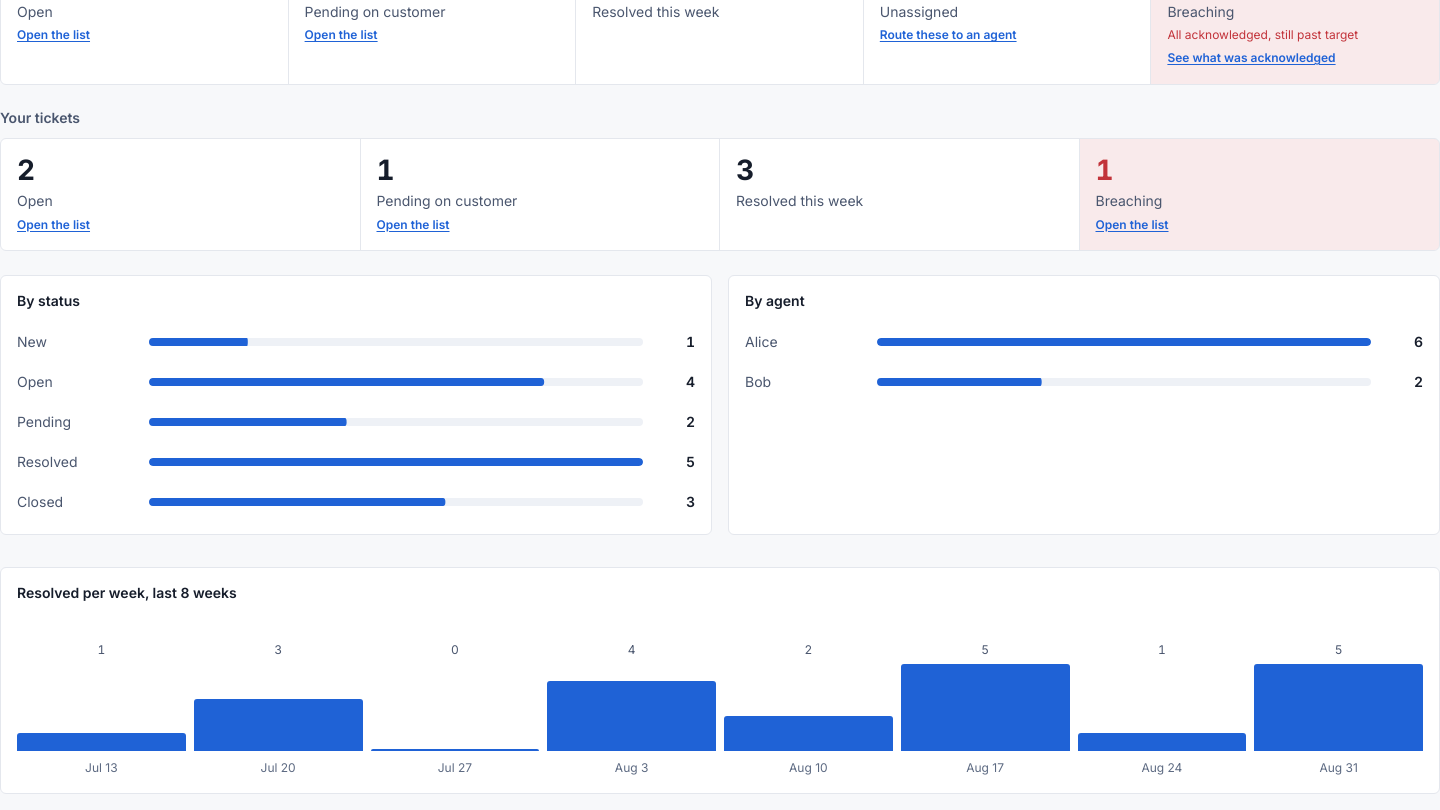
Test: DashboardPage › drills into a clicked week, then returns to the 8-week view
(page scrolled)
Check: the heading "Resolved per week, last 8 weeks" is shown, box [17,584,237,601]
Click the button titled "Show the day-by-day breakdown" at (1339, 709), box [1254,641,1423,777]
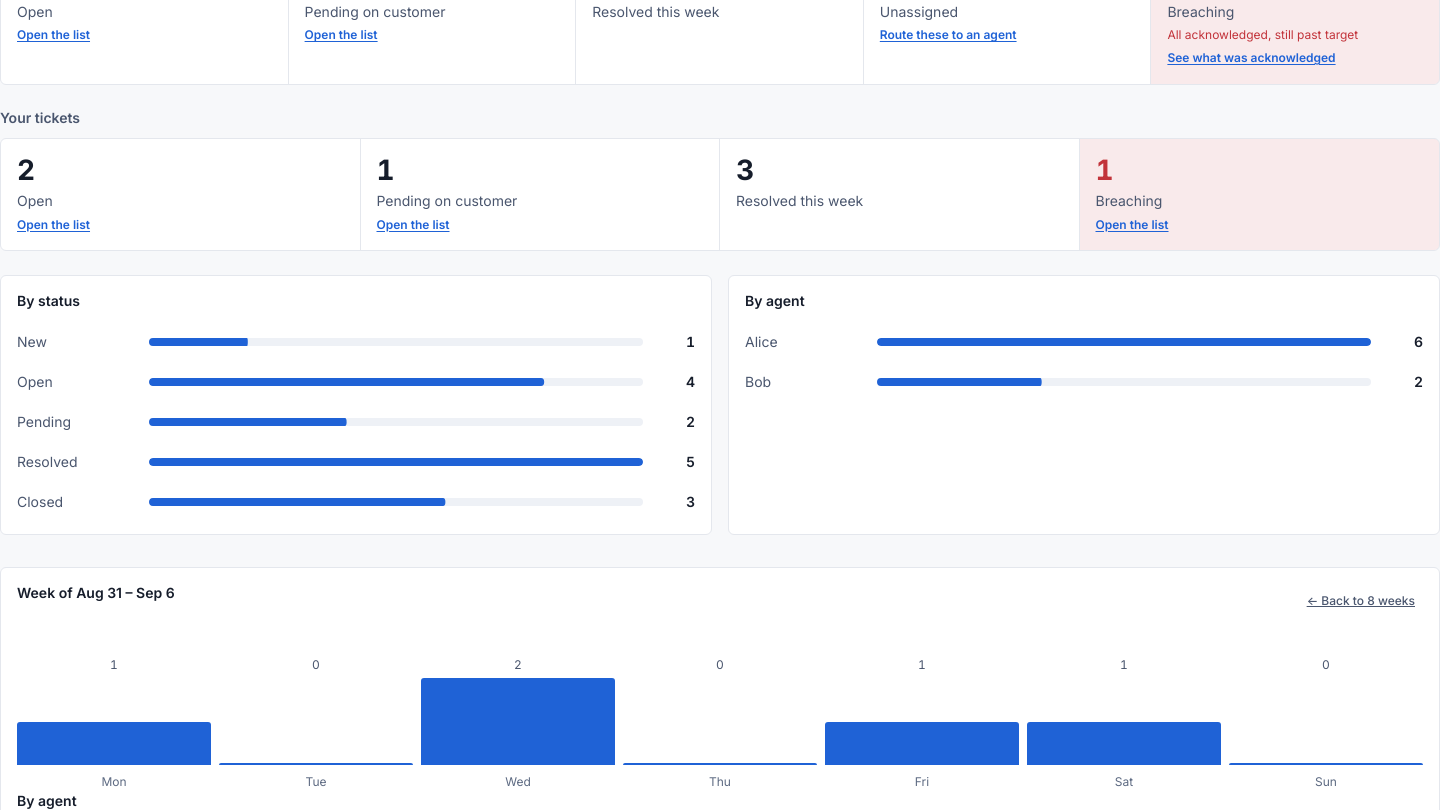
Check: the heading "By agent" below "Mon" is shown, box [17,792,77,809]
Check: the number of elements with class "week-chart-col" is 7
Click the button "← Back to 8 weeks" at (1361, 602), box [1299,584,1423,620]
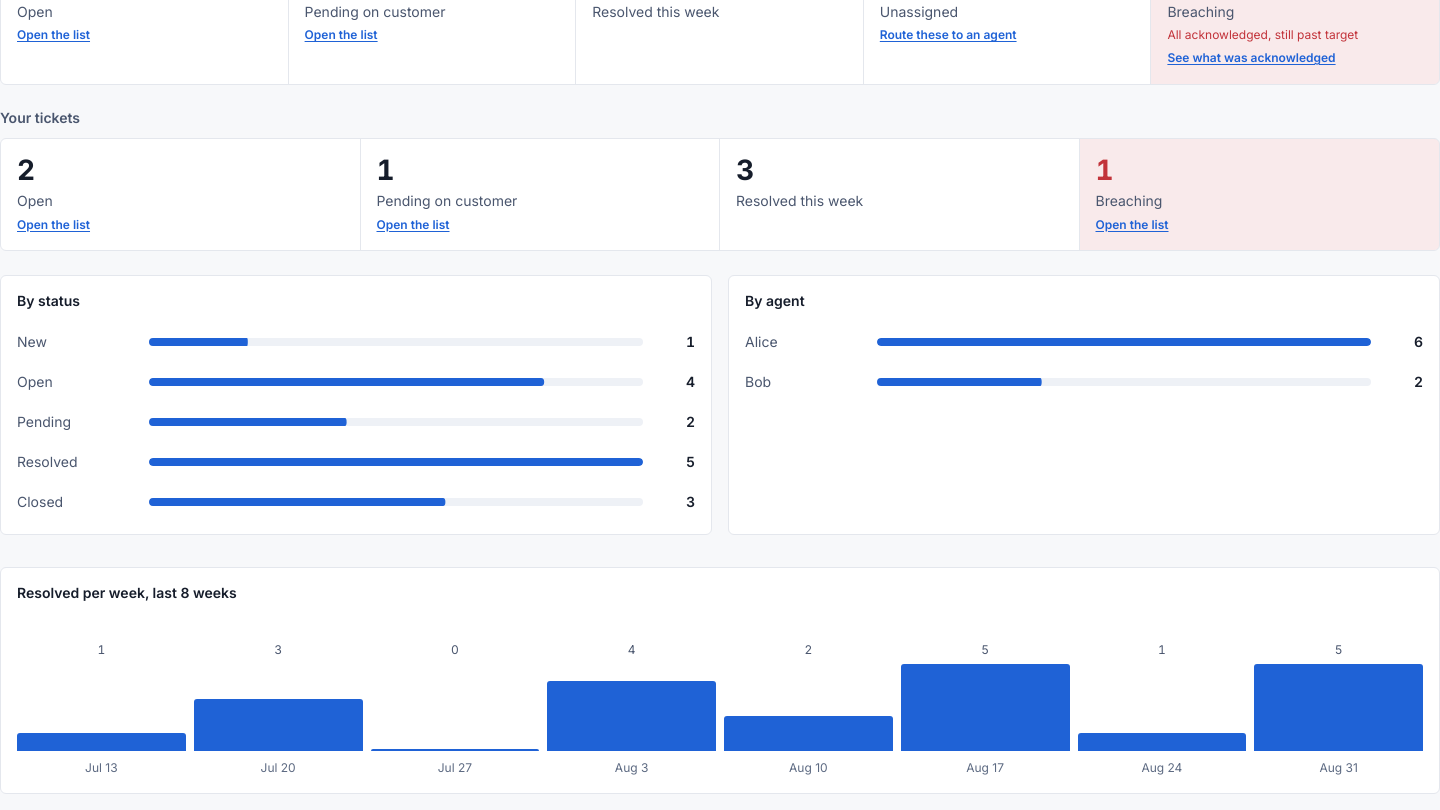
Check: the heading "Resolved per week, last 8 weeks" is shown, box [17,584,237,601]
Check: the number of elements with class "week-chart-col" is 8
